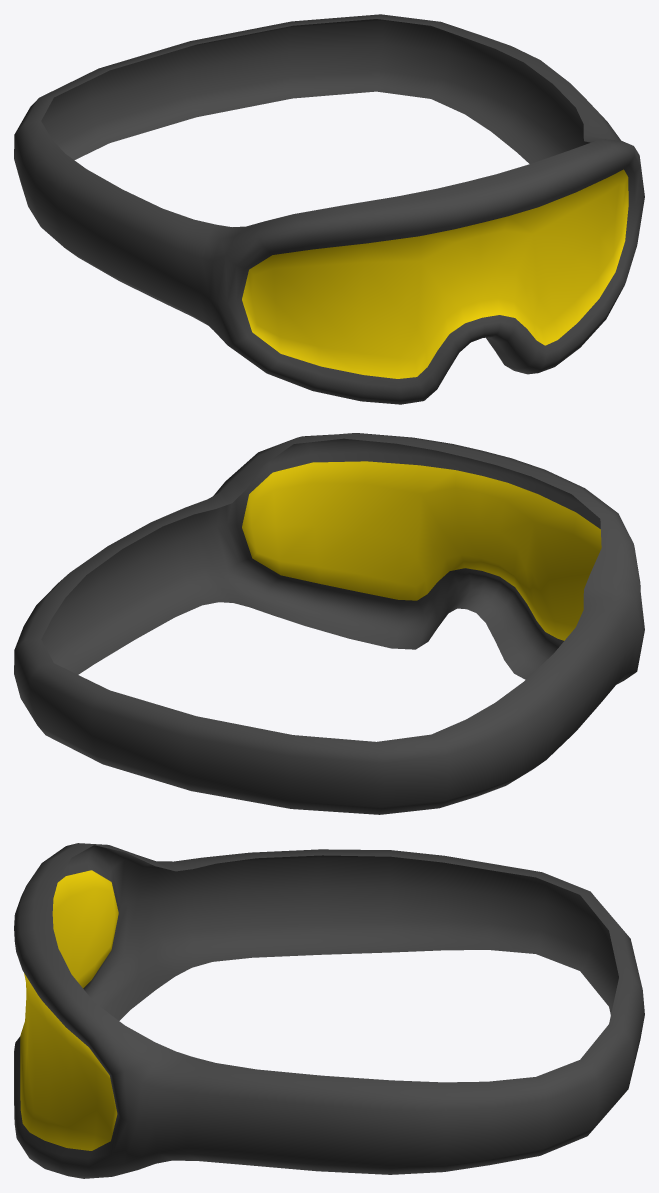
File: Goggles.fbx
3 renders of one model, top to bottom at view 1: azimuth 30°, elevation 25°; view 2: azimuth 150°, elevation 25°; view 3: azimuth 270°, elevation 25°, orthographic. The views are drawn at different scales.
Visible parts, largest first — view 1: SM_Attachment_Goggles_01.001; view 2: SM_Attachment_Goggles_01.001; view 3: SM_Attachment_Goggles_01.001.
Boxes of the visible parts, x1,y1,x2,y2 form: SM_Attachment_Goggles_01.001: (14, 14, 644, 404); SM_Attachment_Goggles_01.001: (14, 433, 644, 814); SM_Attachment_Goggles_01.001: (14, 843, 644, 1178).
Bounding box in the file's own units: 27.1 × 10.62 × 28.47.
